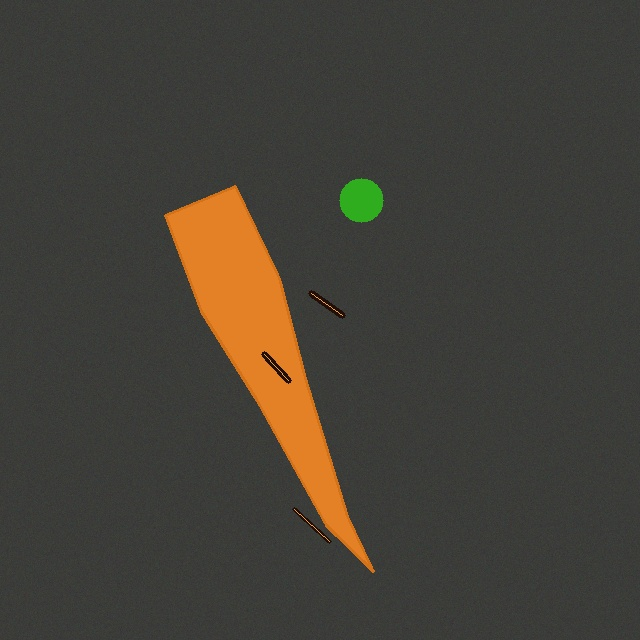Damaged_Carrot: (157, 178, 381, 579)
